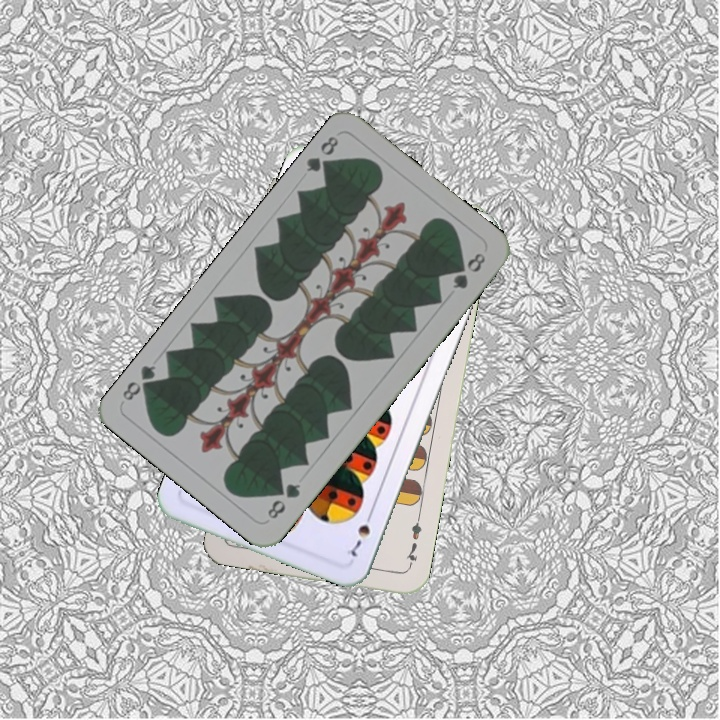E7: (402, 513, 424, 572)
G8: (302, 132, 342, 178), (263, 479, 304, 522)
S7: (346, 506, 376, 560)
